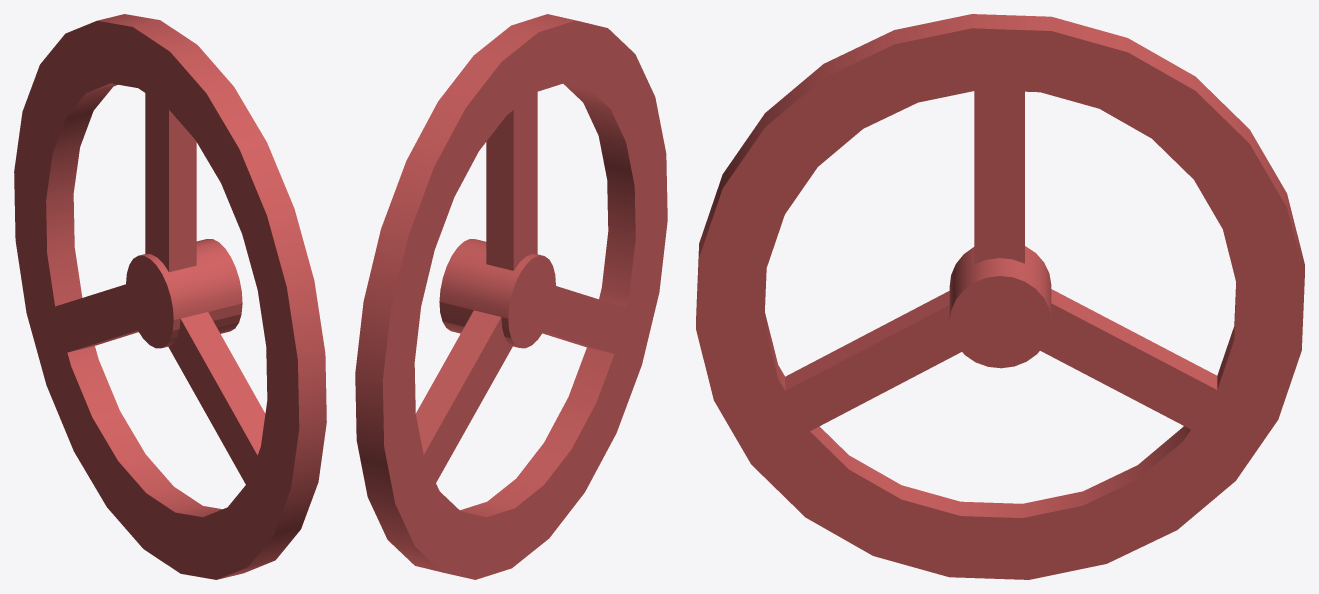
Rendered from red-valve-3-spokes-handle.dae.
3 renders of one model, left to right at view 1: azimuth 30°, elevation 25°; view 2: azimuth 150°, elevation 25°; view 3: azimuth 270°, elevation 25°, orthographic. The views are drawn at different scales.
Parts seen in each view (by area): view 1: skpB8B3 (×2); view 2: skpB8B3 (×2); view 3: skpB8B3 (×2).
Part boxes in pixels (x1,y1,x2,y2): skpB8B3 (×2): [14, 14, 326, 579]; skpB8B3 (×2): [355, 14, 667, 579]; skpB8B3 (×2): [696, 14, 1304, 579].
Bounding box in the file's own units: 1.25 × 8.96 × 8.96.
